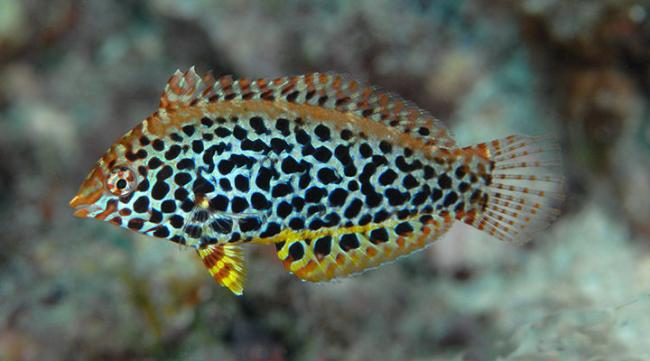fish: (67, 64, 567, 297)
